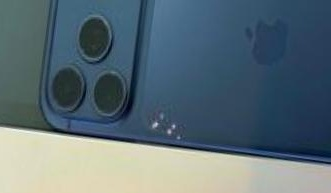scratch: (125, 80, 204, 157)
